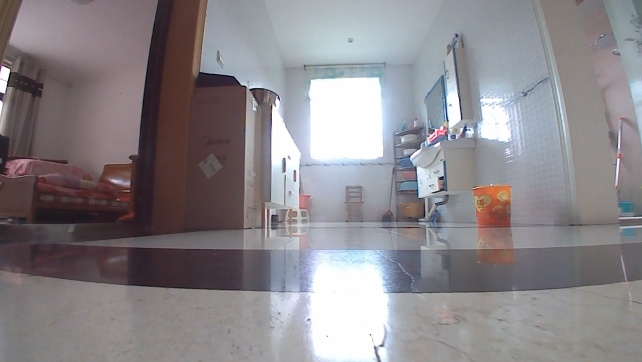bed: (0, 155, 132, 225)
